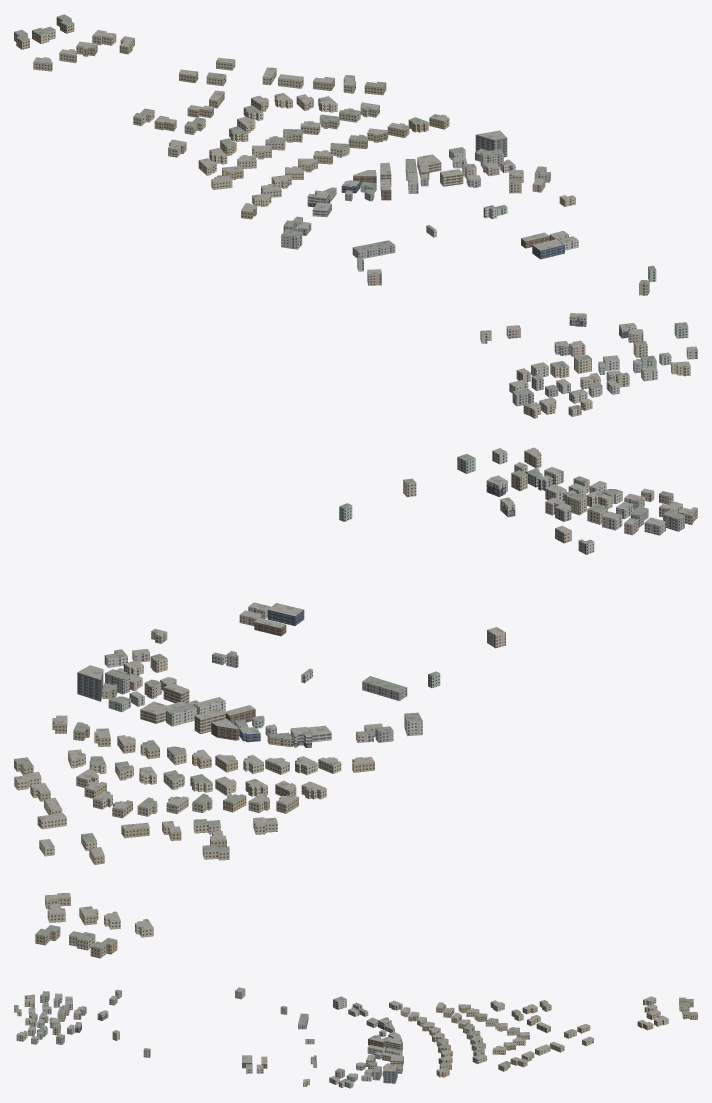
File: ArahaTown_Block_E03072_S01024.gltf
3 renders of one model, top to bottom at view 1: azimuth 30°, elevation 25°; view 2: azimuth 150°, elevation 25°; view 3: azimuth 270°, elevation 25°, orthographic. The views are drawn at different scales.
Parts seen in each view (by area): view 1: ArahaTown_Block_E03072_S01024; view 2: ArahaTown_Block_E03072_S01024; view 3: ArahaTown_Block_E03072_S01024.
Boxes of the visible parts, left/top/right/bottom form: ArahaTown_Block_E03072_S01024: left=14, top=14, right=697, bottom=418; ArahaTown_Block_E03072_S01024: left=14, top=447, right=697, bottom=958; ArahaTown_Block_E03072_S01024: left=14, top=987, right=697, bottom=1088.
Size of the model in its own units: 310 by 53.02 by 1032.
Materials: 16 (16 with a texture image).
